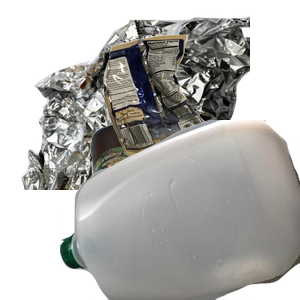glass: (88, 120, 252, 300)
metal: (19, 14, 259, 194)
plastic: (60, 120, 300, 300)
trash: (101, 32, 300, 195)
